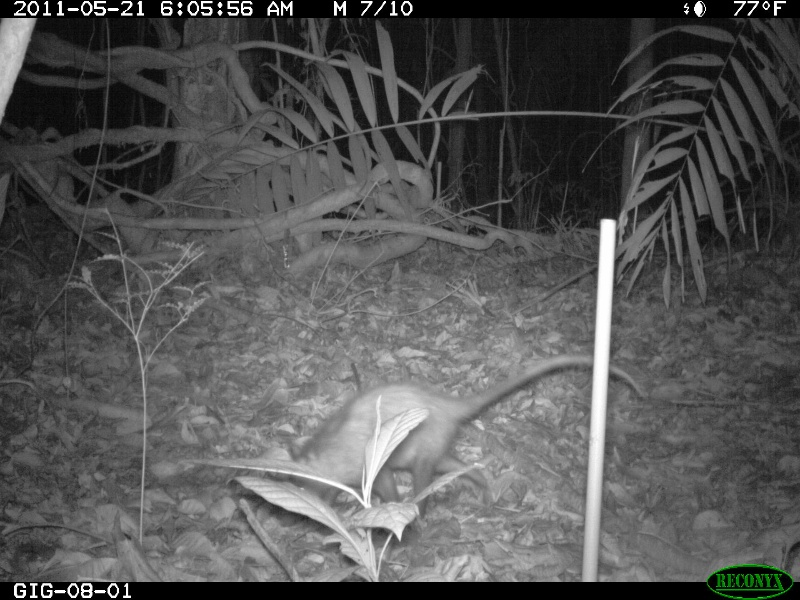opossum: (278, 357, 648, 501)
